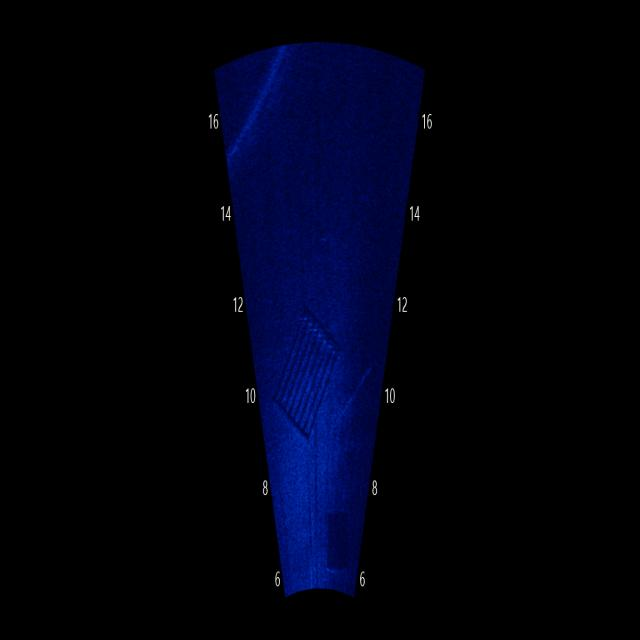square: (270, 296, 349, 442), (310, 490, 364, 594)
